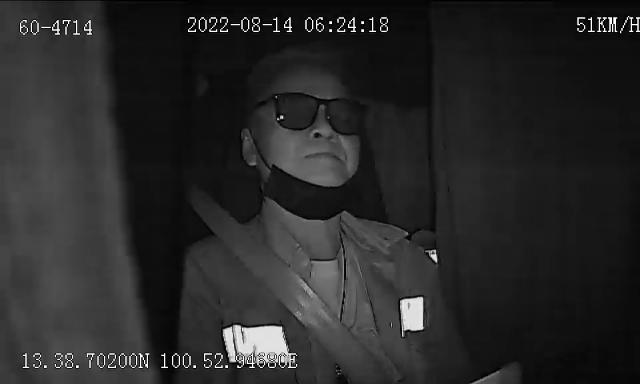Seatbelt: (195, 196, 392, 384)
